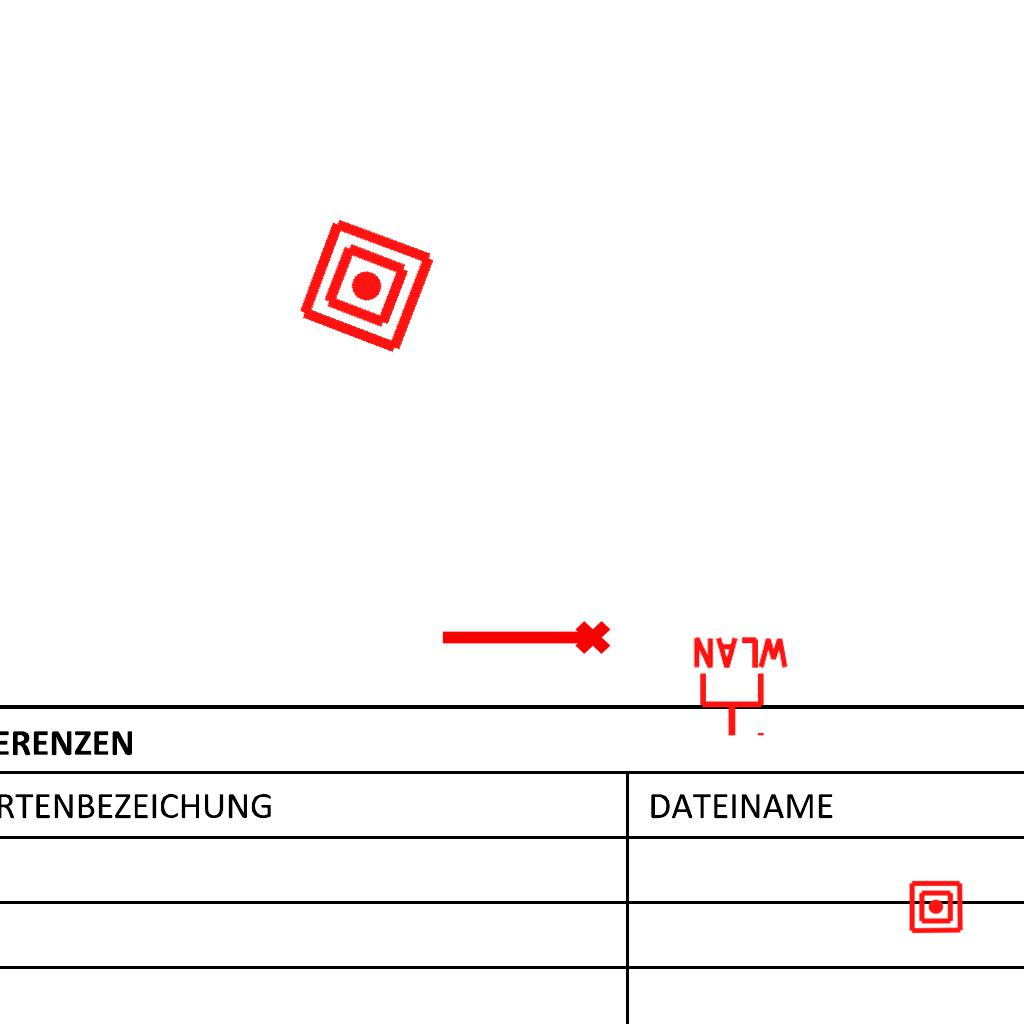ASR_Ansaugoeffnung: (437, 617, 613, 663)
NAM-Nichtautomatischer_Melder: (293, 212, 440, 359), (908, 879, 964, 935)
WLAN: (689, 635, 793, 740)
